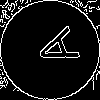A: (25, 25, 80, 74)
